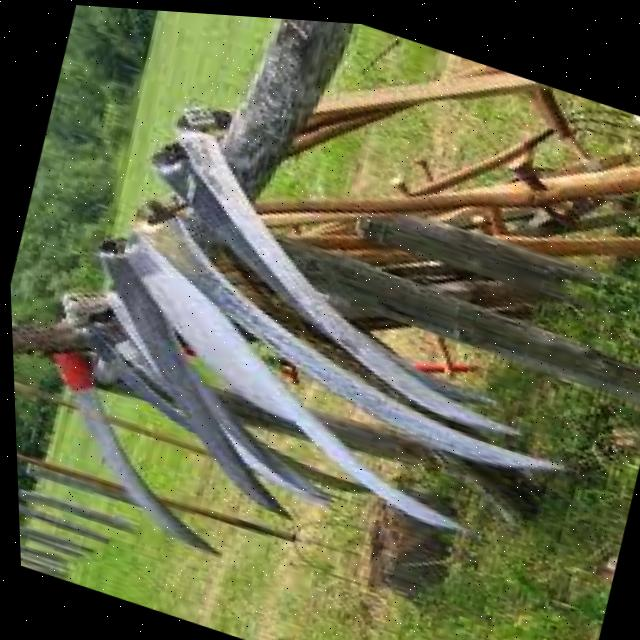sickle: (1, 22, 581, 640), (87, 5, 640, 492), (65, 3, 559, 545), (104, 5, 640, 456), (107, 12, 640, 438), (103, 22, 622, 454), (43, 2, 414, 526), (46, 6, 425, 513)
